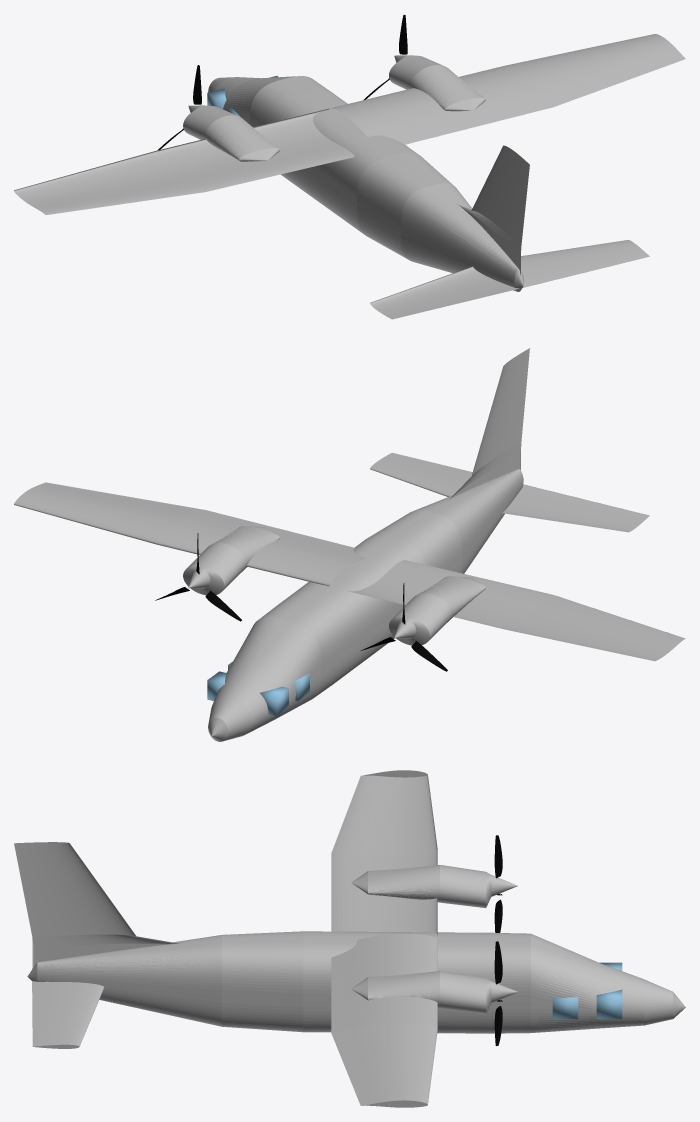
The model's file is Tecnam_P2012.gltf.
3 renders of one model, top to bottom at view 1: azimuth 30°, elevation 25°; view 2: azimuth 150°, elevation 25°; view 3: azimuth 270°, elevation 25°, orthographic. The views are drawn at different scales.
Visible parts, largest first — view 1: Renderer Node; view 2: Renderer Node; view 3: Renderer Node.
Boxes of the visible parts, bbox=[...] form: Renderer Node: bbox=[14, 15, 685, 319]; Renderer Node: bbox=[14, 348, 685, 741]; Renderer Node: bbox=[14, 770, 685, 1107].
Bounding box in the file's own units: 14 × 3.61 × 12.04.
